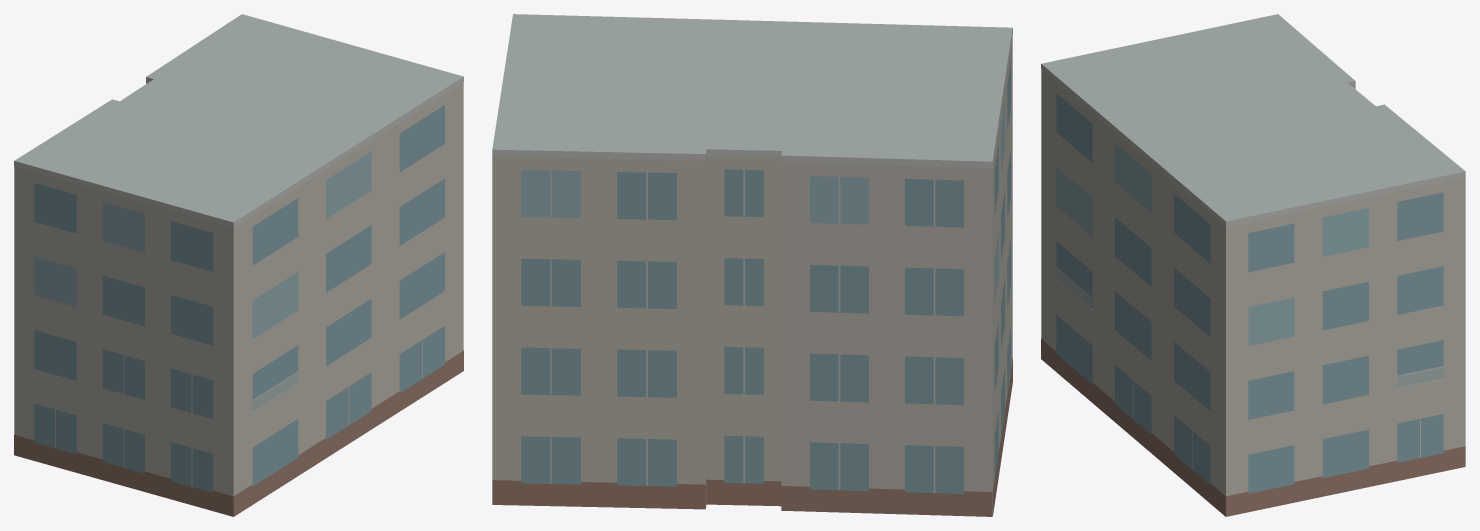
The model's file is survey-upis-32740612.glb.
3 renders of one model, left to right at view 1: azimuth 30°, elevation 25°; view 2: azimuth 150°, elevation 25°; view 3: azimuth 270°, elevation 25°, orthographic. The views are drawn at different scales.
Parts seen in each view (by area): view 1: survey-upis-32740612.tmp; view 2: survey-upis-32740612.tmp; view 3: survey-upis-32740612.tmp.
Part boxes in pixels (x1,y1,x2,y2): survey-upis-32740612.tmp: (14, 14, 463, 516); survey-upis-32740612.tmp: (492, 14, 1012, 516); survey-upis-32740612.tmp: (1041, 14, 1465, 516).
Bounding box in the file's own units: 19.28 × 12.8 × 16.68.
